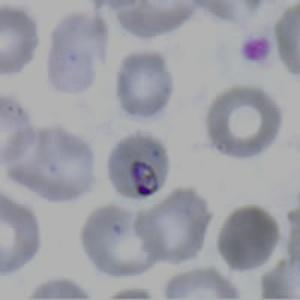Infected: (108, 132, 169, 199)
Uninfected: (16, 127, 96, 202), (83, 203, 156, 278), (208, 85, 282, 158), (138, 187, 208, 263), (47, 12, 108, 95), (217, 206, 280, 270), (116, 53, 173, 117), (0, 197, 39, 275)
